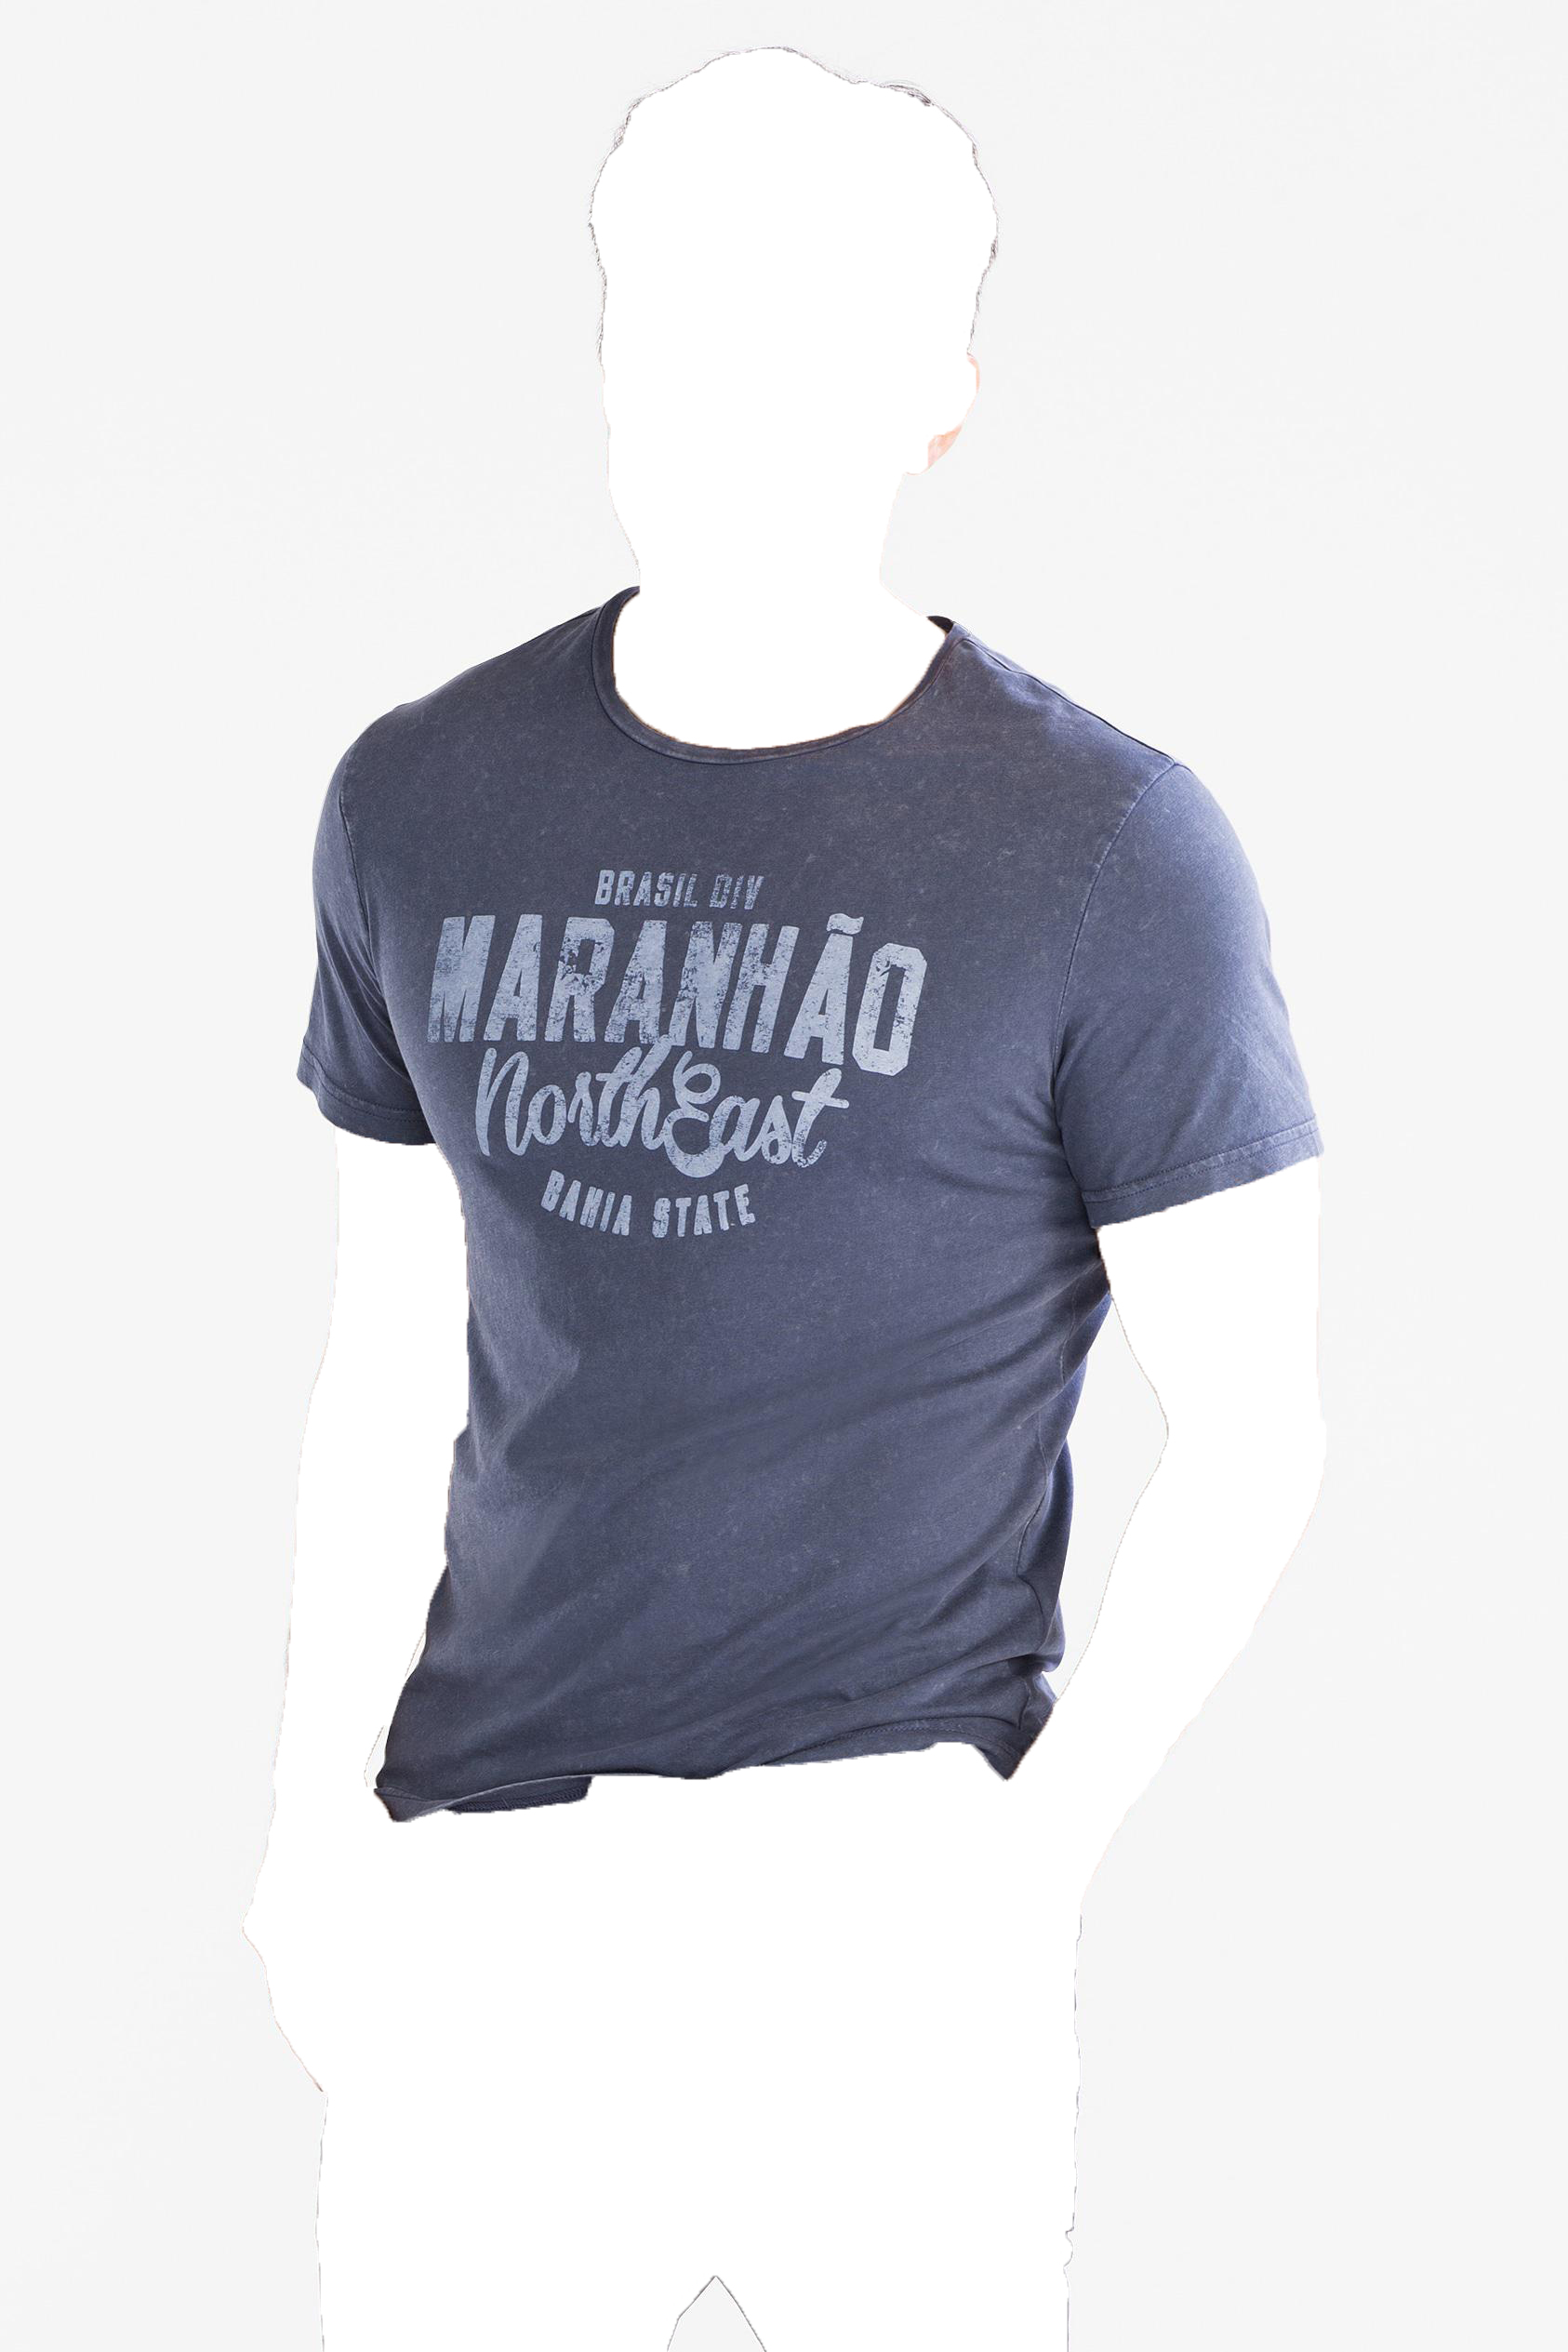teeshirt: (268, 571, 1354, 1818)
